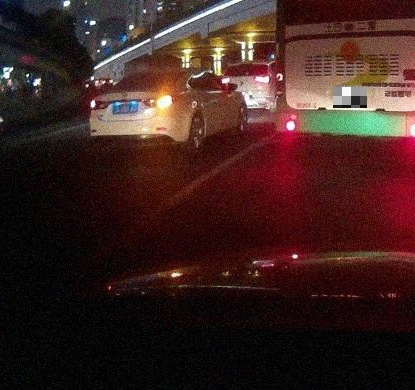L_light: (90, 99, 109, 110)
R_light: (144, 95, 176, 108)
T_light: (147, 74, 158, 78)
night-right: (88, 67, 184, 158)
plate_1: (333, 87, 367, 108)
